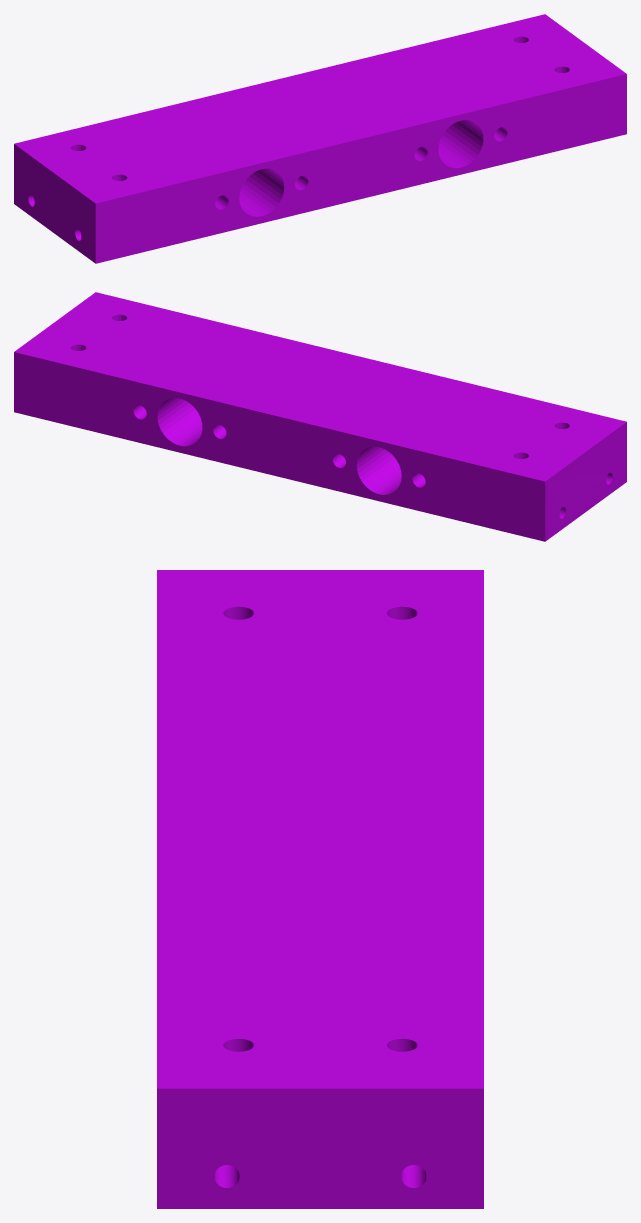
Rendered from carriage.dae.
3 renders of one model, top to bottom at view 1: azimuth 30°, elevation 25°; view 2: azimuth 150°, elevation 25°; view 3: azimuth 270°, elevation 25°, orthographic. The views are drawn at different scales.
Visible parts, largest first — view 1: Big Carriage Mount; view 2: Big Carriage Mount; view 3: Big Carriage Mount.
Boxes of the visible parts, x1,y1,x2,y2 form: Big Carriage Mount: [14, 14, 626, 263]; Big Carriage Mount: [14, 292, 626, 541]; Big Carriage Mount: [157, 570, 483, 1208].
Bounding box in the file's own units: 0.12 × 0.032 × 0.013.
